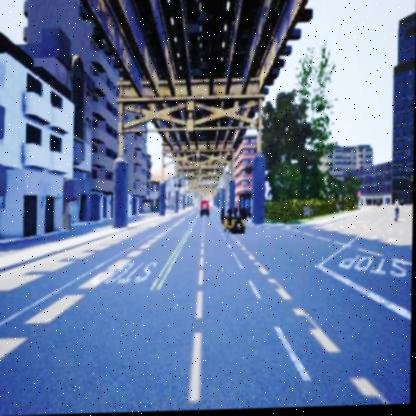bike: (392, 197, 403, 224)
vehicle: (221, 207, 247, 235), (199, 199, 211, 218)
